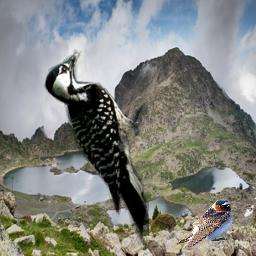Swallow: (175, 199, 233, 250)
Woodpecker: (43, 49, 149, 245)
